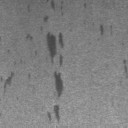red iron: (40, 16, 64, 98), (0, 72, 14, 91), (46, 105, 60, 122), (50, 0, 64, 16), (123, 59, 128, 78), (99, 24, 104, 35), (26, 34, 32, 40), (83, 2, 86, 8), (34, 50, 37, 55), (28, 74, 30, 80)
